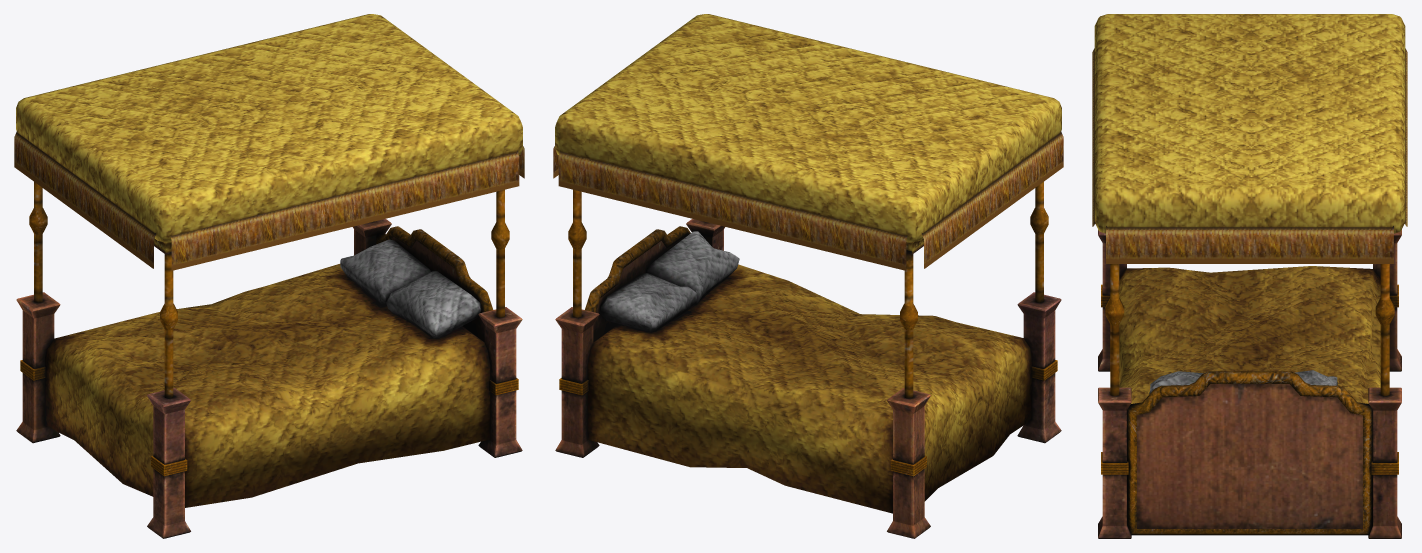
Rendered from bed_nice_yellow.dae.
The picture shows the model from 3 angles, left to right: view 1: azimuth 30°, elevation 25°; view 2: azimuth 150°, elevation 25°; view 3: azimuth 270°, elevation 25°; orthographic projection. The views are drawn at different scales.
Parts seen in each view (by area): view 1: bed_nice_mesh; view 2: bed_nice_mesh; view 3: bed_nice_mesh.
Boxes of the visible parts, x1=… form: bed_nice_mesh: x1=14, y1=14, x2=524, y2=538; bed_nice_mesh: x1=553, y1=14, x2=1063, y2=538; bed_nice_mesh: x1=1092, y1=14, x2=1407, y2=538.
Bounding box in the file's own units: 3.42 × 2.95 × 2.43.
